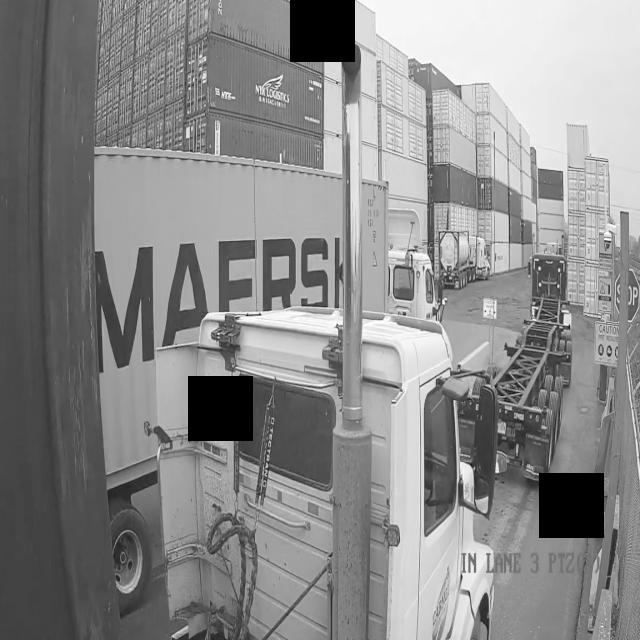truck_without_container: (496, 254, 572, 483)
